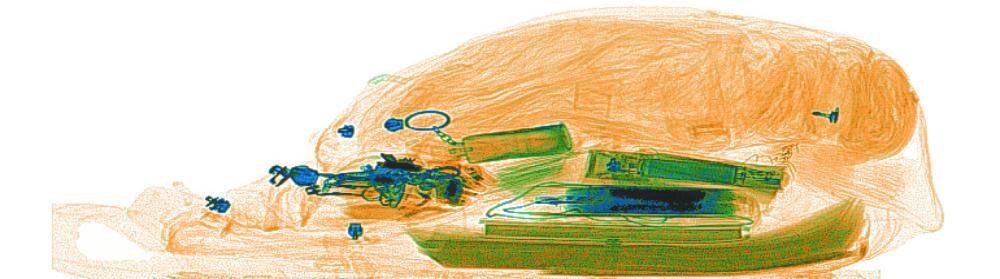battery: (632, 155, 739, 185)
